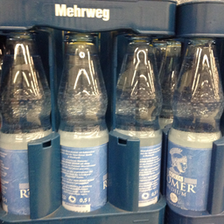water: (2, 32, 55, 219), (169, 37, 223, 213), (59, 32, 109, 213), (116, 34, 163, 207)
